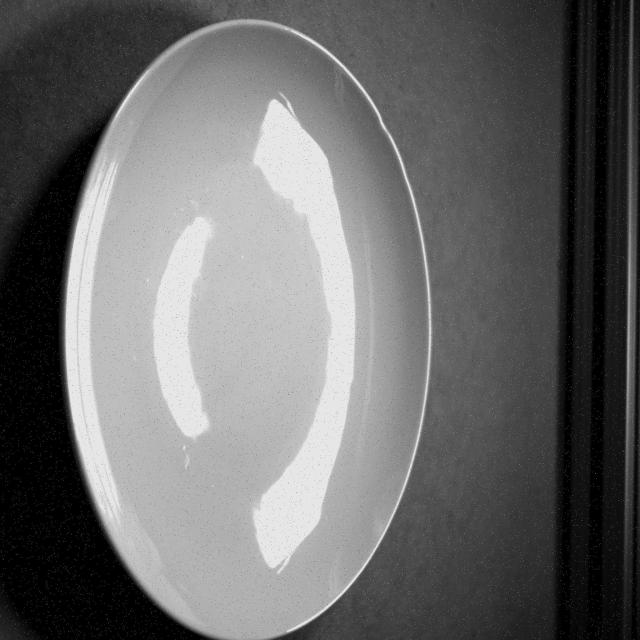plate: (62, 20, 430, 640)
